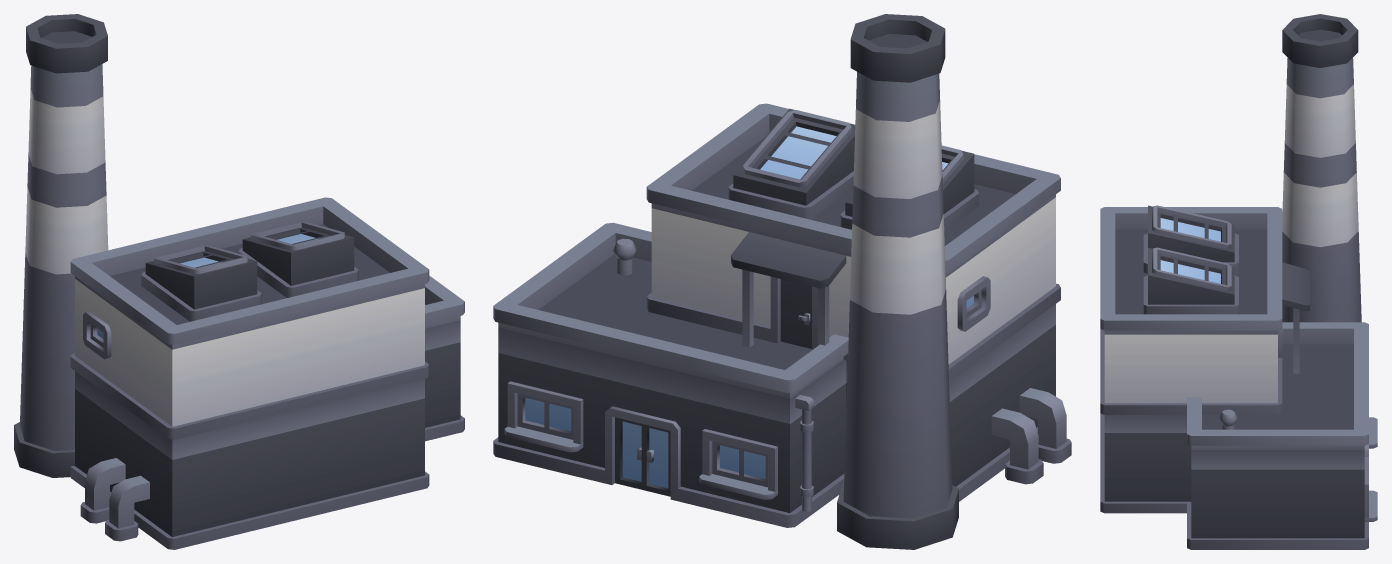
The model's file is k-city-kit-industrial-building-f.glb.
The picture shows the model from 3 angles, left to right: view 1: azimuth 30°, elevation 25°; view 2: azimuth 150°, elevation 25°; view 3: azimuth 270°, elevation 25°; orthographic projection. The views are drawn at different scales.
Visible parts, largest first — view 1: building-f; view 2: building-f; view 3: building-f.
Part boxes in pixels (bbox=[...]): building-f: bbox=[14, 14, 464, 549]; building-f: bbox=[493, 14, 1071, 549]; building-f: bbox=[1100, 14, 1377, 549].
Bounding box in the file's own units: 1.79 × 1.92 × 1.28.
1 material, 1 textured.
